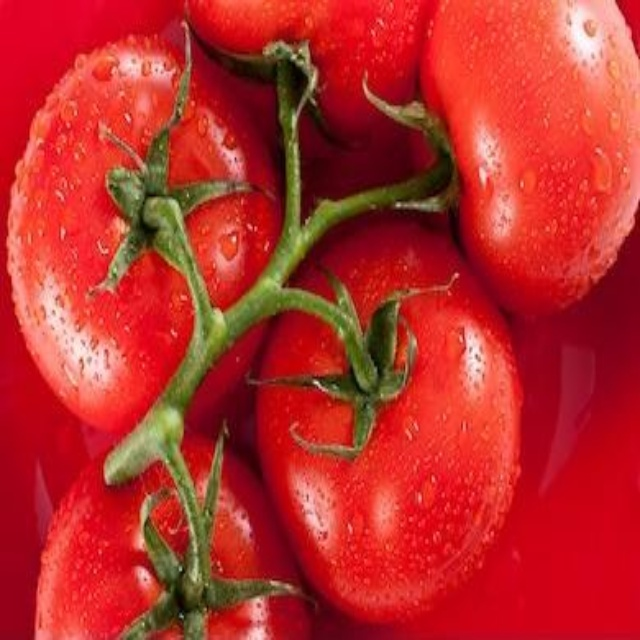tomato: (9, 43, 280, 423), (272, 214, 510, 610), (422, 3, 639, 319), (44, 444, 314, 639)
